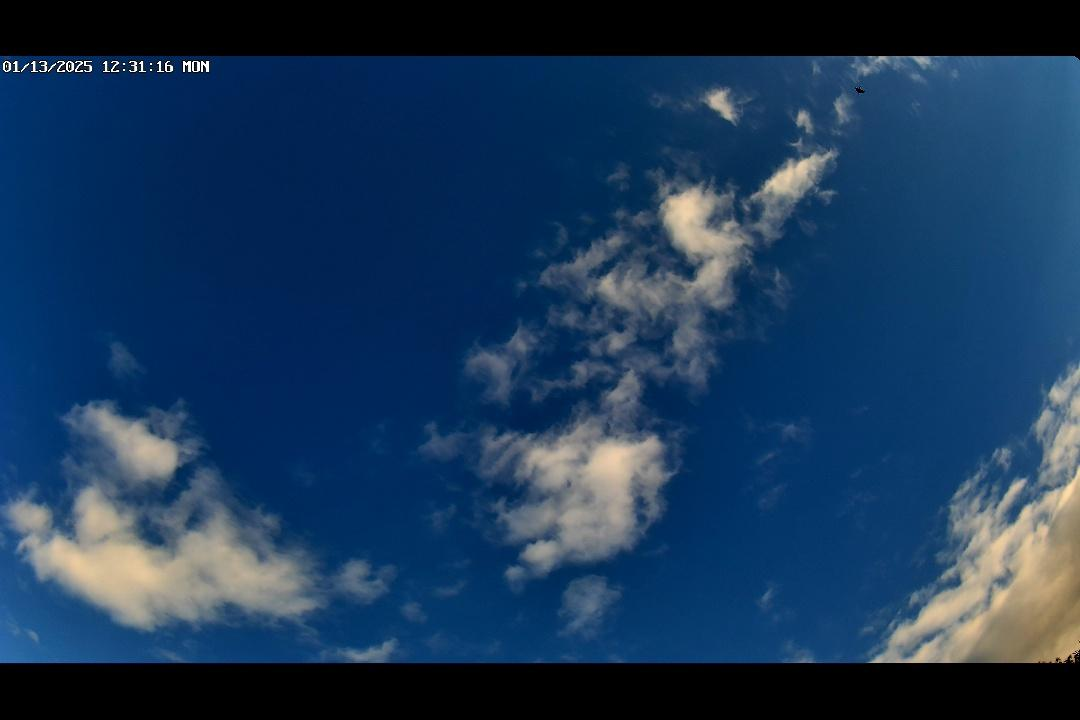WildLife: (853, 84, 875, 97)
